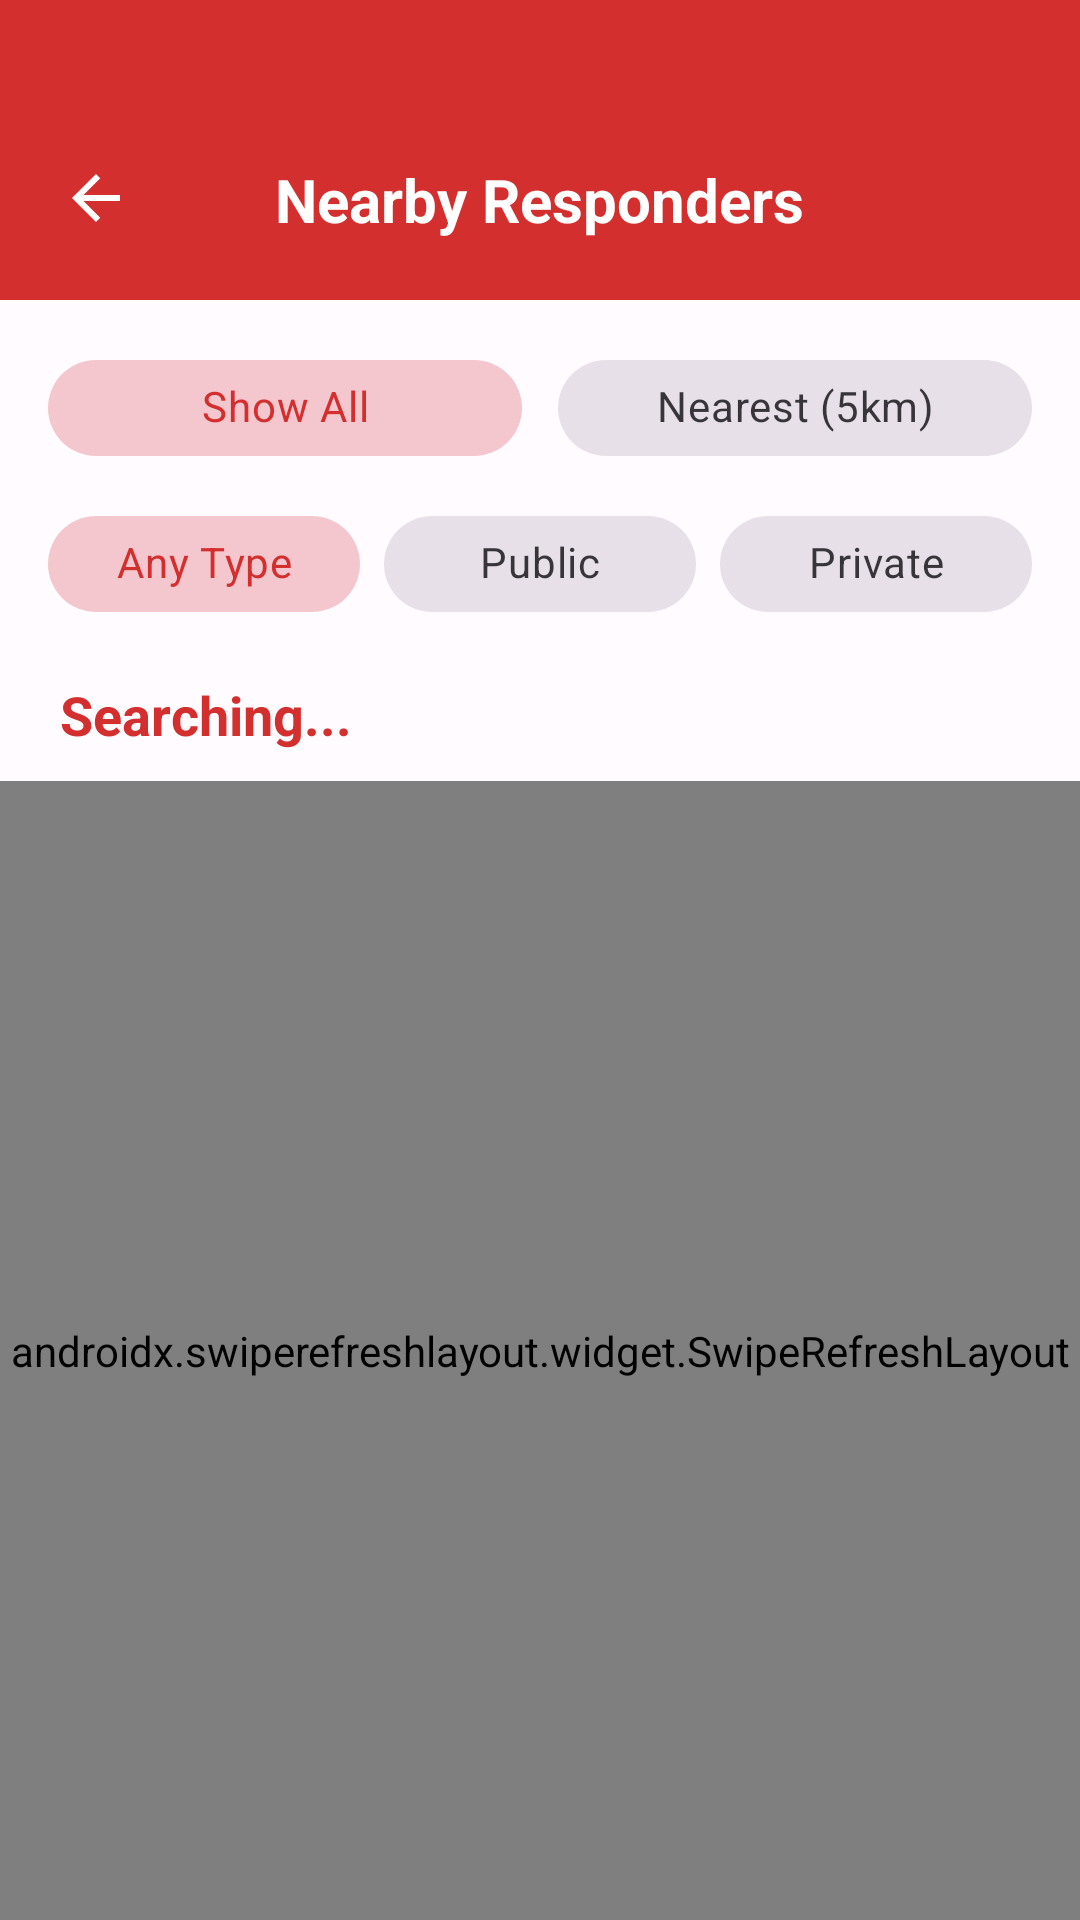

Icons on this 1080*1920 Android screen, each with the point to tap as point (x, y):
Back: point (96, 198)
